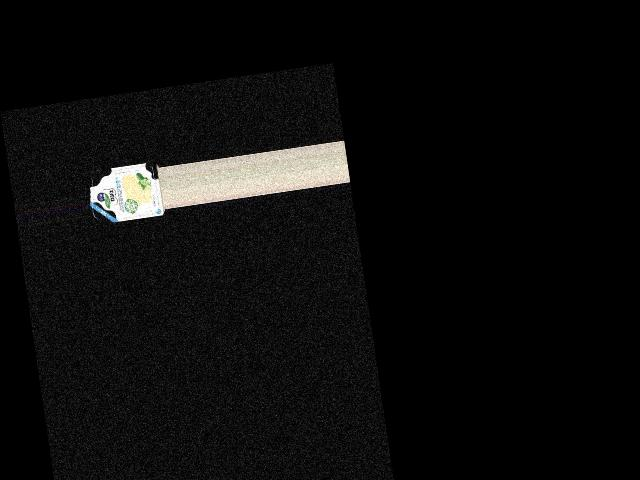cheese: (86, 158, 166, 228)
